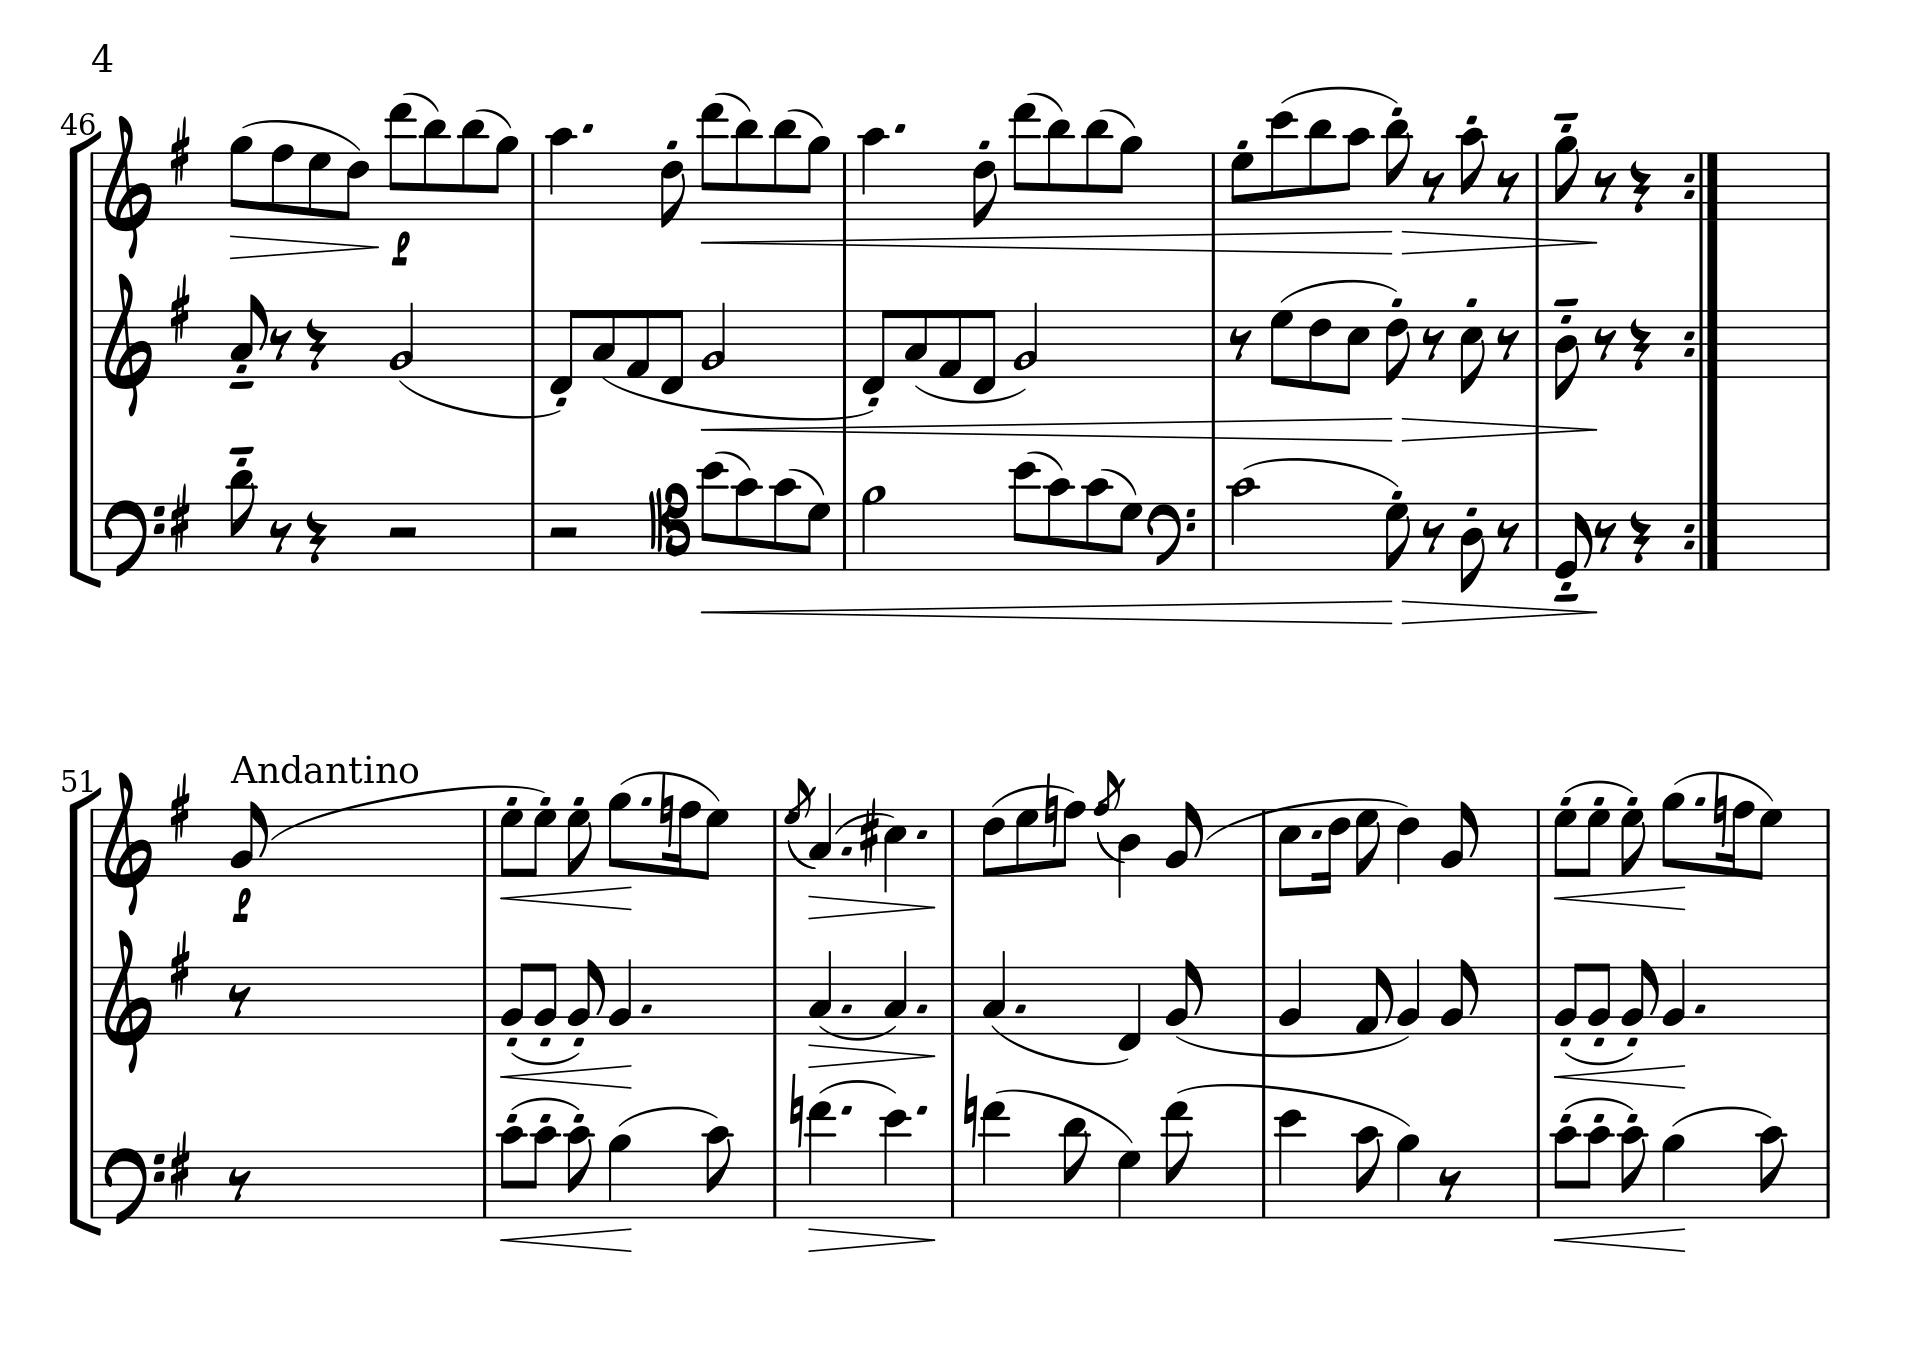16_6: (1315, 807, 1351, 897)
16_8: (664, 801, 700, 877), (1720, 801, 1753, 879)
2_10: (1229, 476, 1258, 575)
2_2: (1013, 300, 1041, 381), (700, 300, 728, 379), (388, 301, 414, 379)
2_9: (858, 484, 886, 573)
4: (91, 40, 115, 71), (59, 109, 76, 137)
4_-1: (1116, 964, 1143, 1052)
4_10: (858, 125, 886, 223), (547, 125, 575, 222)
4_12: (1274, 1107, 1307, 1220), (880, 1108, 911, 1221)
4_13: (979, 1099, 1008, 1221), (805, 1101, 833, 1221)
4_2: (1277, 955, 1305, 1036), (1662, 955, 1687, 1036), (608, 957, 633, 1036), (1396, 957, 1421, 1036)
4_3: (980, 949, 1007, 1036), (808, 791, 833, 877), (808, 949, 833, 1036), (883, 949, 908, 1036)
4_4: (1117, 808, 1141, 899)
4_5: (883, 807, 907, 894)
4_6: (1395, 805, 1420, 885)
4_7: (1116, 1148, 1142, 1218)
4_9: (1393, 1132, 1420, 1220), (1659, 1132, 1684, 1218), (607, 1132, 631, 1220)
6: (78, 109, 96, 135)
8_-1: (860, 309, 894, 395), (548, 309, 581, 395), (658, 307, 686, 395), (970, 307, 998, 395)
8_0: (1554, 503, 1592, 579)
8_1: (1354, 966, 1395, 1036), (625, 307, 653, 379), (938, 307, 964, 379)
8_10: (1340, 125, 1373, 220), (1457, 126, 1487, 223), (1581, 1124, 1612, 1220), (1756, 1124, 1787, 1220), (528, 1124, 559, 1218), (704, 1124, 733, 1221), (564, 1124, 594, 1220), (1354, 1124, 1383, 1220), (1618, 1124, 1648, 1220), (497, 1124, 526, 1218), (1045, 476, 1073, 572), (1551, 1124, 1579, 1218), (733, 476, 760, 572), (772, 476, 798, 572), (1083, 476, 1110, 572)
8_11: (226, 467, 257, 573), (1061, 1115, 1091, 1220), (1383, 118, 1412, 220), (1307, 116, 1335, 223), (420, 118, 448, 220), (459, 118, 486, 220), (733, 118, 761, 220), (1045, 118, 1073, 220), (1082, 118, 1110, 220), (772, 118, 798, 220)
8_12: (1008, 459, 1041, 572), (697, 460, 728, 572), (1268, 110, 1296, 223)
8_13: (1161, 1099, 1192, 1218), (1008, 100, 1038, 223), (385, 101, 414, 220), (697, 101, 726, 220)
8_2: (1164, 957, 1204, 1035), (229, 800, 267, 877), (1440, 957, 1479, 1035), (1440, 800, 1479, 876), (1166, 800, 1202, 877), (567, 957, 604, 1035), (1621, 957, 1658, 1035), (1552, 960, 1584, 1035), (500, 960, 531, 1035), (534, 961, 557, 1035), (1587, 961, 1611, 1035)
8_3: (229, 292, 267, 378), (902, 307, 929, 379), (591, 307, 617, 378)
8_4: (1458, 503, 1486, 594), (1554, 309, 1580, 400)
8_5: (1339, 307, 1370, 395), (1458, 309, 1484, 395), (1277, 807, 1302, 897)
8_6: (1385, 309, 1412, 388), (340, 151, 370, 222), (658, 151, 686, 229), (972, 150, 998, 229), (1307, 309, 1332, 392), (980, 807, 1005, 879)
8_7: (698, 805, 729, 880), (1753, 805, 1783, 880), (526, 807, 557, 877), (1113, 500, 1142, 572), (801, 501, 830, 572), (1580, 807, 1609, 877), (1268, 307, 1293, 387), (1385, 501, 1411, 573), (1354, 805, 1380, 877), (1620, 807, 1646, 879), (566, 807, 592, 877), (1229, 150, 1255, 219), (1014, 805, 1039, 877), (306, 150, 331, 220), (1552, 807, 1577, 877), (500, 807, 523, 877)
8_8: (1054, 800, 1085, 877), (269, 143, 295, 220)
8_9: (801, 135, 830, 220), (1113, 137, 1142, 220), (1552, 135, 1580, 222), (489, 135, 517, 220), (1659, 791, 1686, 879), (607, 791, 632, 879), (228, 135, 253, 222)
Acciaccature: (1094, 769, 1123, 882), (783, 777, 813, 874)
Bracke: (63, 786, 104, 1237), (65, 126, 101, 592)
Crescendo_hairpin: (700, 226, 1390, 257), (710, 597, 1390, 628), (703, 414, 1393, 444), (1555, 883, 1684, 913), (501, 883, 632, 911), (503, 1226, 631, 1254), (1556, 1226, 1684, 1254), (504, 1061, 628, 1089)
Diminuendo_hairpin: (1399, 226, 1598, 259), (1404, 597, 1601, 626), (1402, 417, 1595, 442), (226, 234, 378, 262), (808, 1039, 933, 1068), (807, 894, 936, 919), (804, 1227, 933, 1252), (1565, 1061, 1678, 1086)
Fclef: (103, 497, 165, 581), (103, 1145, 165, 1227), (1146, 500, 1196, 573)
Gclef: (103, 272, 154, 417), (103, 772, 153, 917), (104, 927, 154, 1073), (103, 115, 153, 259)
Natural: (788, 1071, 805, 1149), (1711, 775, 1728, 845), (657, 775, 675, 844), (1044, 775, 1060, 847), (963, 1071, 977, 1149)
Rests2: (545, 522, 581, 541), (384, 525, 420, 541)
Rests4: (303, 315, 328, 373), (303, 509, 328, 566), (1627, 509, 1652, 566), (1629, 315, 1651, 373), (1629, 159, 1651, 215)
Rests8: (1493, 519, 1521, 554), (1592, 168, 1618, 204), (267, 517, 294, 554), (1436, 1165, 1462, 1202), (1227, 326, 1254, 362), (1592, 326, 1618, 362), (1420, 519, 1446, 554), (225, 1165, 251, 1201), (1495, 168, 1520, 203), (1420, 326, 1445, 362), (1495, 326, 1520, 362), (269, 325, 292, 362), (226, 982, 251, 1016), (1421, 168, 1445, 203), (1595, 517, 1617, 554)
RightRepeatSign: (1683, 150, 1723, 220), (1683, 309, 1723, 378), (1683, 501, 1723, 570)
Sharp: (168, 272, 193, 342), (168, 773, 193, 844), (168, 1130, 191, 1202), (168, 929, 191, 999), (169, 482, 191, 554), (858, 798, 880, 869), (169, 116, 191, 185)
Single_barline: (1529, 966, 1548, 1035), (1818, 151, 1837, 219), (944, 808, 963, 876), (1255, 966, 1273, 1035), (476, 966, 494, 1035), (766, 966, 783, 1035), (1818, 310, 1836, 376), (944, 967, 961, 1033), (836, 503, 854, 567), (1818, 503, 1836, 567), (836, 309, 852, 376), (1205, 309, 1221, 376), (1532, 808, 1548, 876), (767, 1149, 783, 1217), (945, 1149, 961, 1217), (1532, 1149, 1548, 1217), (525, 151, 541, 218), (525, 309, 541, 375), (478, 810, 494, 876), (478, 1149, 494, 1215), (525, 503, 541, 567), (1530, 309, 1545, 376), (769, 808, 783, 876), (84, 310, 98, 376), (1820, 808, 1834, 874), (1257, 1149, 1271, 1215), (1820, 1149, 1834, 1215), (838, 151, 852, 216), (1207, 503, 1221, 567), (1530, 503, 1545, 567), (1820, 967, 1834, 1032), (85, 1151, 100, 1215), (85, 504, 100, 567), (1532, 151, 1545, 220), (87, 808, 100, 877), (1207, 151, 1221, 212), (85, 153, 98, 219), (85, 967, 98, 1033), (1258, 822, 1271, 877)
Slur: (1007, 1083, 1132, 1143), (1171, 1035, 1408, 1060), (997, 1021, 1126, 1066), (240, 118, 362, 150), (613, 770, 723, 801), (1670, 770, 1777, 801), (1279, 278, 1399, 301), (1282, 84, 1396, 104), (617, 1105, 719, 1126), (1671, 1105, 1773, 1126), (916, 384, 1024, 403), (988, 783, 1074, 805), (819, 1023, 898, 1041), (819, 1079, 898, 1095), (830, 811, 882, 835), (509, 1049, 582, 1066), (788, 466, 827, 495), (1564, 1049, 1634, 1066), (1101, 466, 1139, 495), (1565, 777, 1634, 794), (1095, 830, 1124, 866), (786, 839, 817, 872), (509, 1096, 584, 1110), (475, 106, 514, 129), (1564, 1096, 1634, 1110), (786, 106, 825, 129), (1099, 106, 1136, 129), (403, 90, 441, 112), (714, 90, 753, 112), (1027, 90, 1066, 112), (1027, 450, 1064, 470)
Tensor_Cclef: (647, 482, 691, 573)
dot: (579, 119, 597, 137), (891, 121, 908, 137), (638, 999, 654, 1016), (838, 999, 854, 1016), (1013, 999, 1027, 1016), (1692, 999, 1706, 1016), (504, 1035, 520, 1049), (916, 1101, 929, 1118), (914, 1001, 929, 1016), (914, 827, 929, 841), (838, 844, 852, 857), (841, 1102, 854, 1117)
p: (229, 888, 254, 924), (389, 229, 412, 267)
